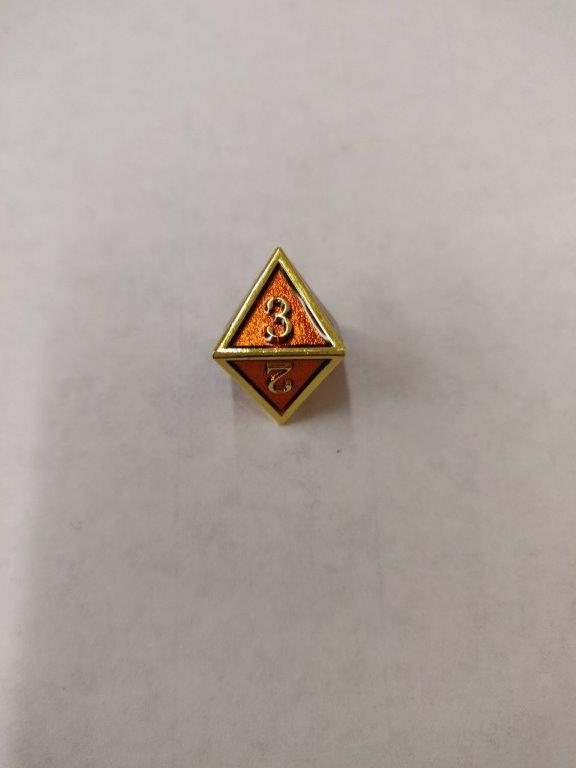d8-3: (208, 248, 348, 426)
